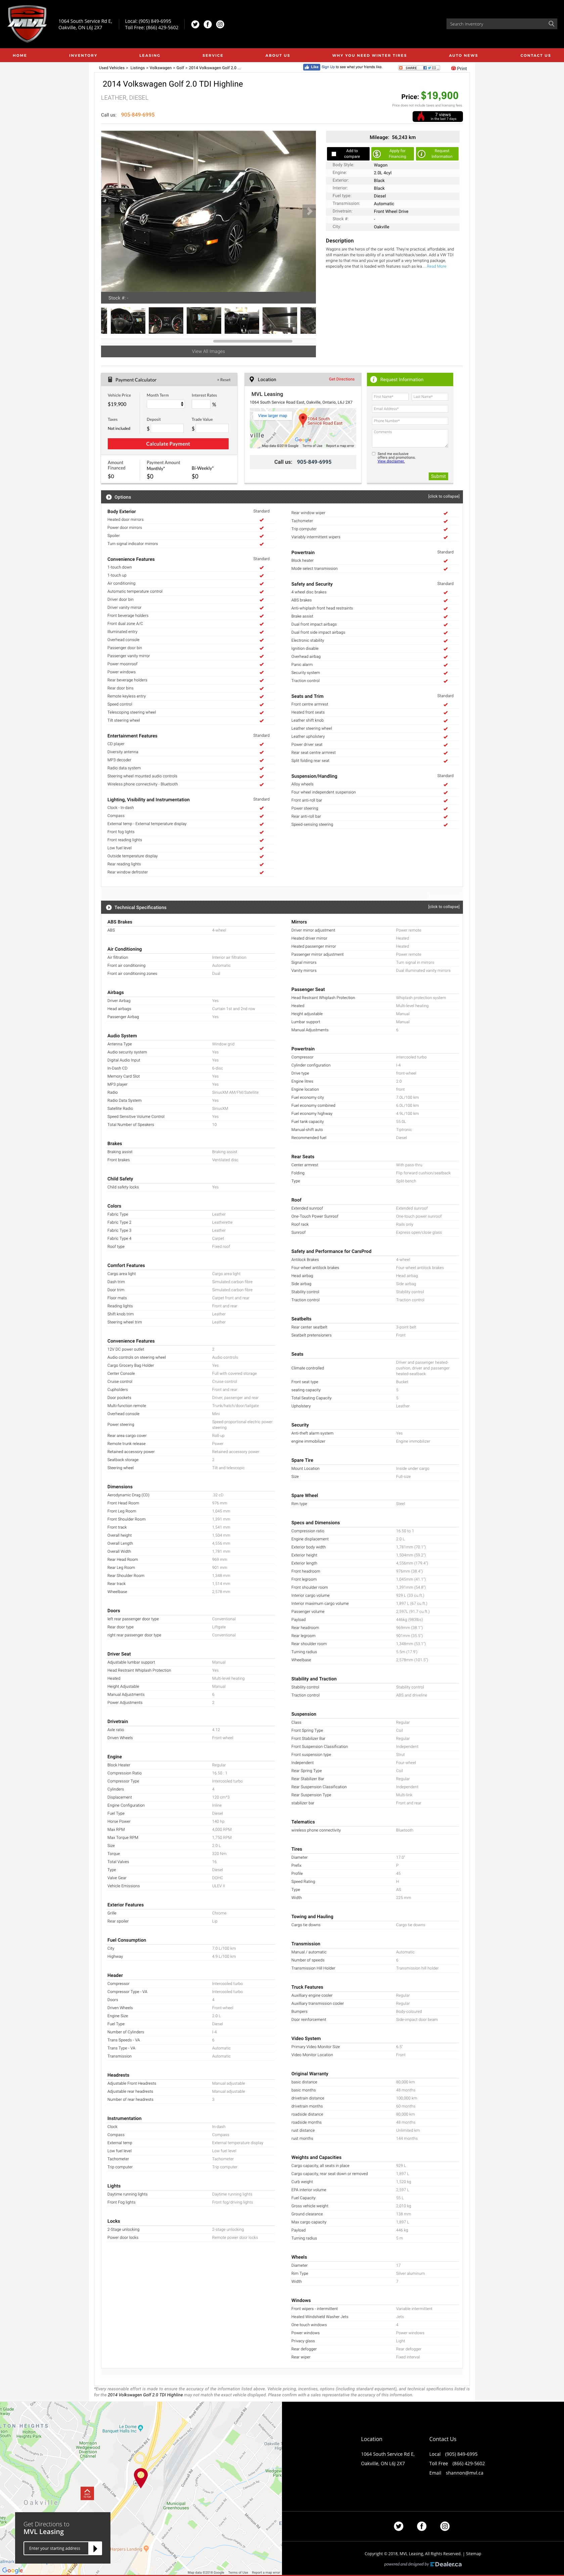car: (307, 207, 312, 215)
